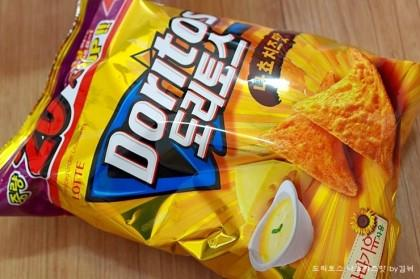snack: (0, 0, 416, 279)
